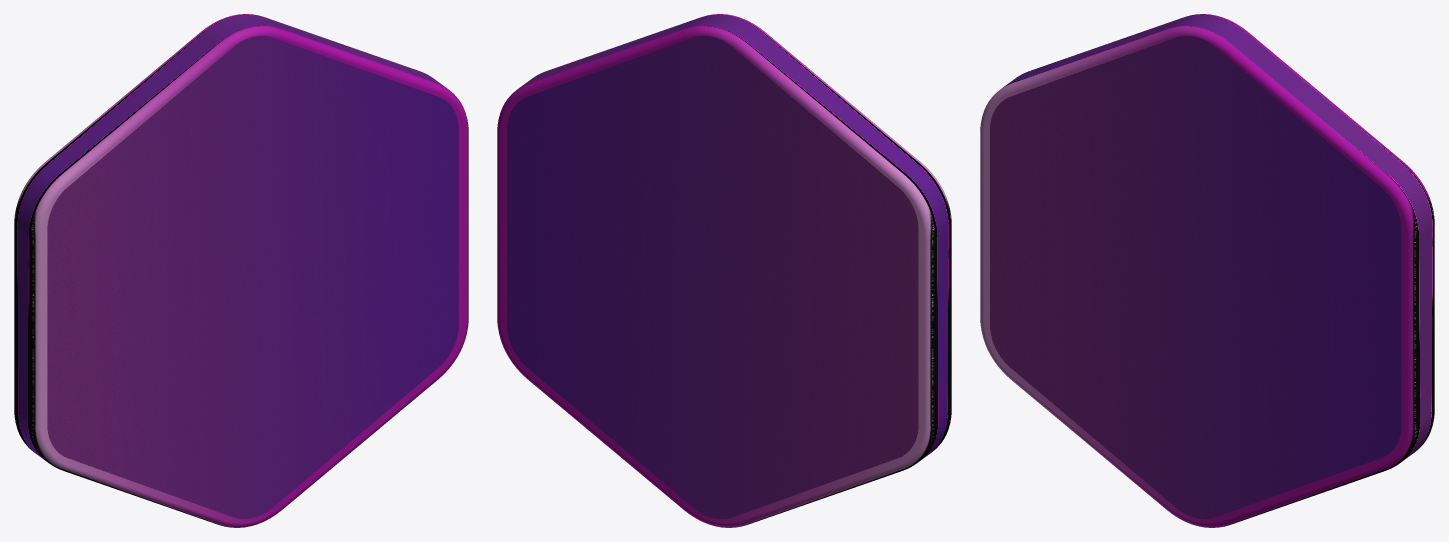
File: Star1.gltf
3 views of the same model, side by side, from view 1: azimuth 30°, elevation 25°; view 2: azimuth 150°, elevation 25°; view 3: azimuth 330°, elevation 25° (orthographic).
Parts seen in each view (by area): view 1: Extrusión; view 2: Extrusión; view 3: Extrusión.
Boxes of the visible parts, box(x1,y1,x2,y2) form: Extrusión: box(14, 14, 468, 527); Extrusión: box(497, 14, 951, 527); Extrusión: box(980, 14, 1434, 527).
Size of the model in its own units: 651 by 709 by 60.16.
Materials: 1 (1 with a texture image).
